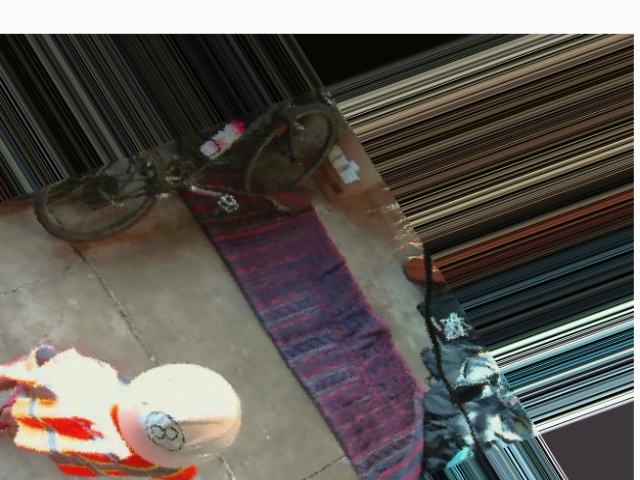eight: (135, 405, 192, 456)
